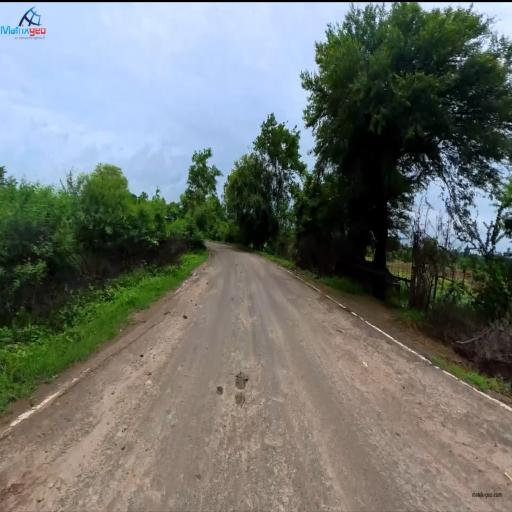ravelling: (216, 354, 320, 490), (111, 383, 157, 485)
